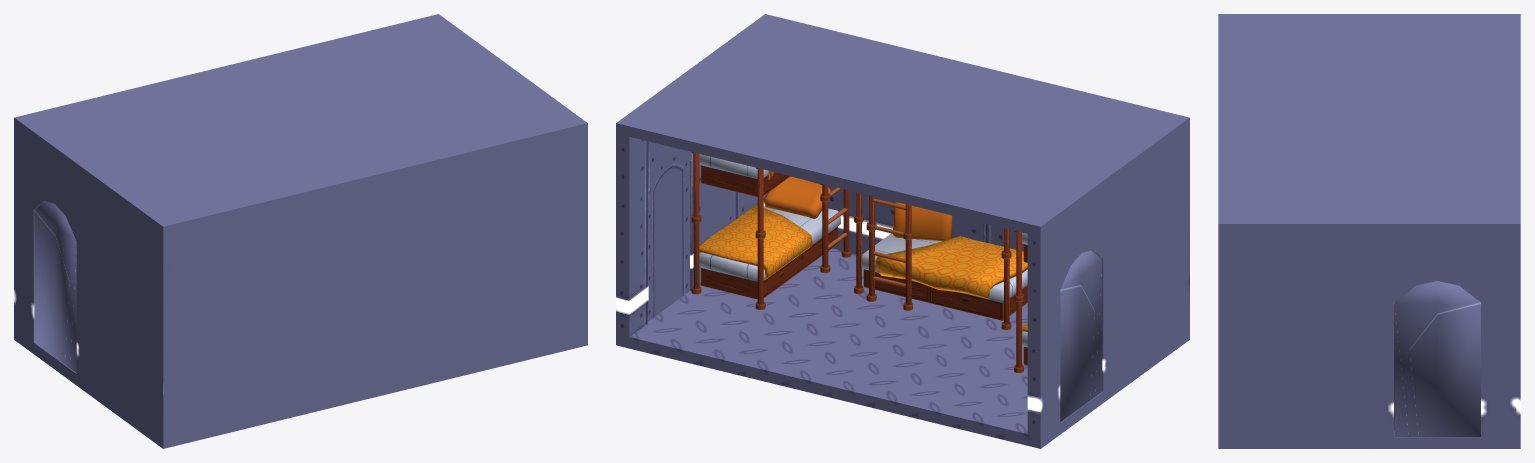
The model's file is complex_bedroom (2).fbx.
3 views of the same model, side by side, from view 1: azimuth 30°, elevation 25°; view 2: azimuth 150°, elevation 25°; view 3: azimuth 270°, elevation 25° (orthographic).
Parts seen in each view (by area): view 1: base, base.002; view 2: base, Cube, Cube.001, base.002, base.001, Cube.003, Cube.002, Cube.006; view 3: base, base.001.
Part boxes in pixels (x1,y1,x2,y2): base: [14, 14, 587, 448]; base.002: [34, 201, 76, 372]; base: [616, 14, 1189, 448]; Cube: [691, 152, 840, 309]; Cube.001: [854, 192, 1027, 330]; base.002: [1060, 250, 1102, 421]; base.001: [648, 154, 689, 320]; Cube.003: [866, 195, 912, 310]; Cube.002: [820, 184, 851, 273]; Cube.006: [1014, 230, 1027, 373]; base: [1218, 14, 1520, 448]; base.001: [1394, 281, 1480, 436].
Size of the model in its own units: 800 by 400 by 487.
